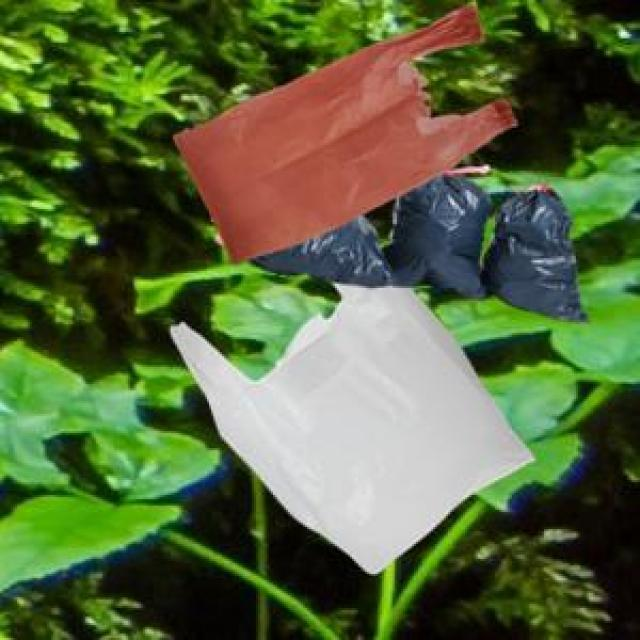miscellaneous trash: (243, 162, 587, 318)
